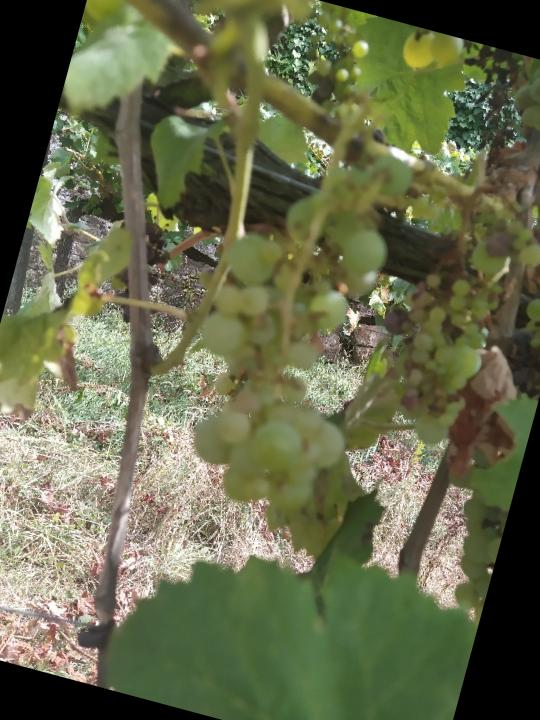grape: (151, 161, 414, 544)
